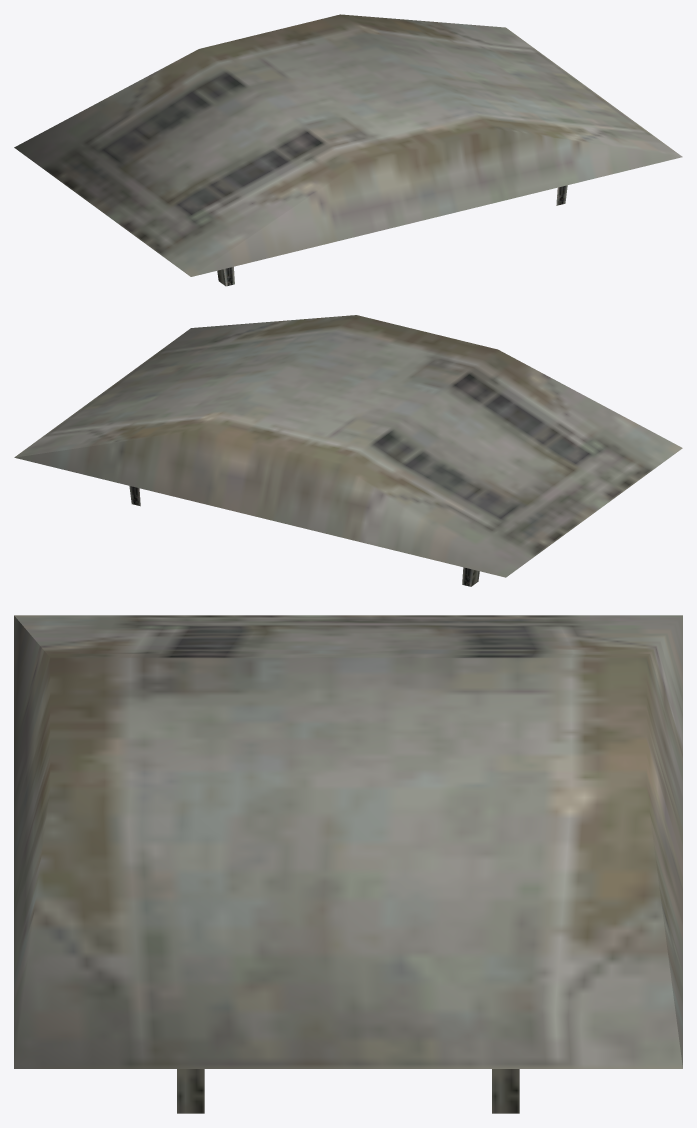
Rendered from ins_all_min_liquid_s01_u0_pedal_l2.fbx.
3 views of the same model, one above another, from view 1: azimuth 30°, elevation 25°; view 2: azimuth 150°, elevation 25°; view 3: azimuth 270°, elevation 25° (orthographic). The views are drawn at different scales.
Visible parts, largest first — view 1: mesh_node; view 2: mesh_node; view 3: mesh_node.
Boxes of the visible parts, x1,y1,x2,y2 form: mesh_node: [14, 14, 682, 286]; mesh_node: [14, 315, 682, 586]; mesh_node: [14, 615, 682, 1113].
Size of the model in its own units: 6.95 by 1.66 by 4.33.
